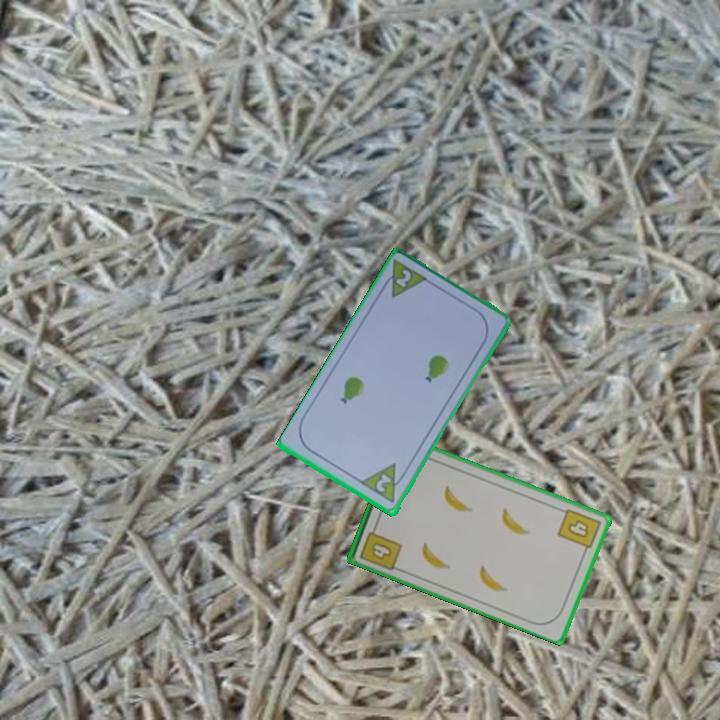2p: (376, 257, 432, 302), (358, 460, 410, 507)
4b: (356, 520, 405, 574), (554, 505, 604, 557)
